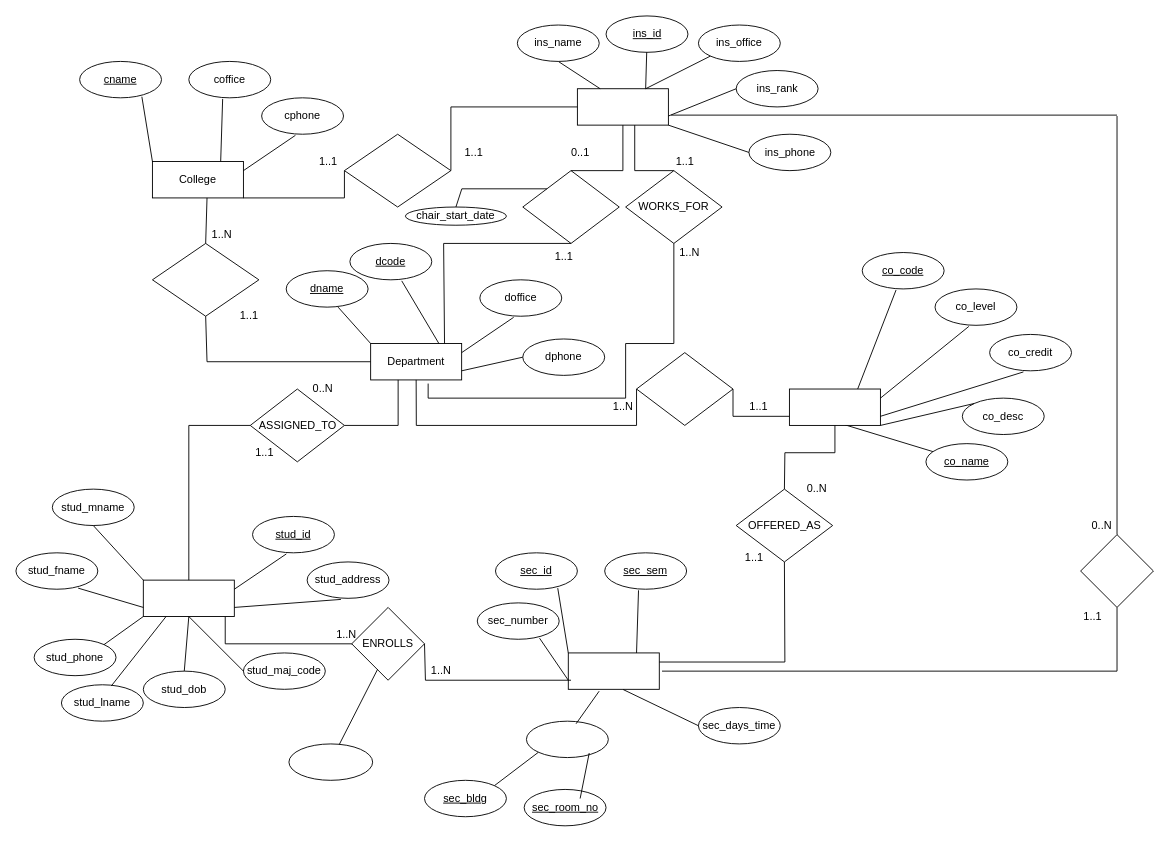
This 1169x842 diagram has some shape labels left out. Each missing label, with the centre of its shape:
"ADMINISTERS" goes at (x=205, y=279).
"Course" goes at (x=834, y=406).
"HAS_CHAIR" goes at (x=570, y=206).
"HAS_DEAN" goes at (x=397, y=170).
"Instructor" goes at (x=622, y=106).
"OFFERS" goes at (x=684, y=388).
"sec_croom" goes at (x=567, y=739).
"Section" goes at (x=613, y=670).
"stud_grade" goes at (x=330, y=761).
"Student" goes at (x=188, y=598).
"TEACHES" goes at (x=1116, y=570).
